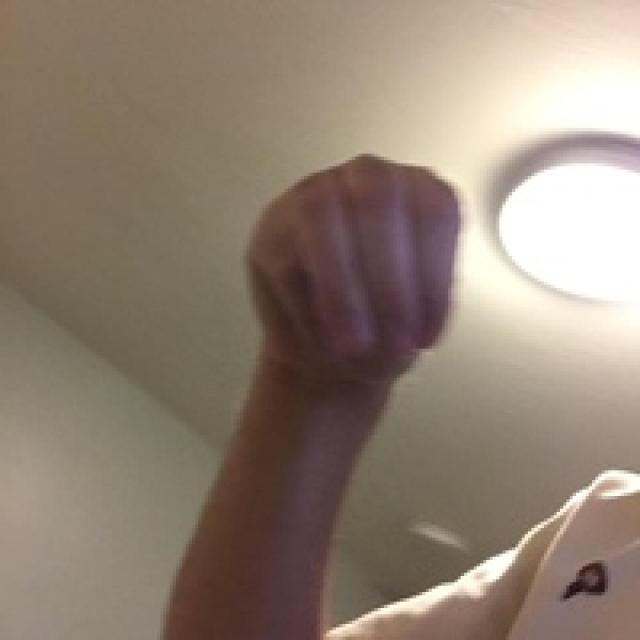M: (192, 70, 509, 444)
